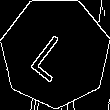L_NE: (28, 23, 82, 82)
